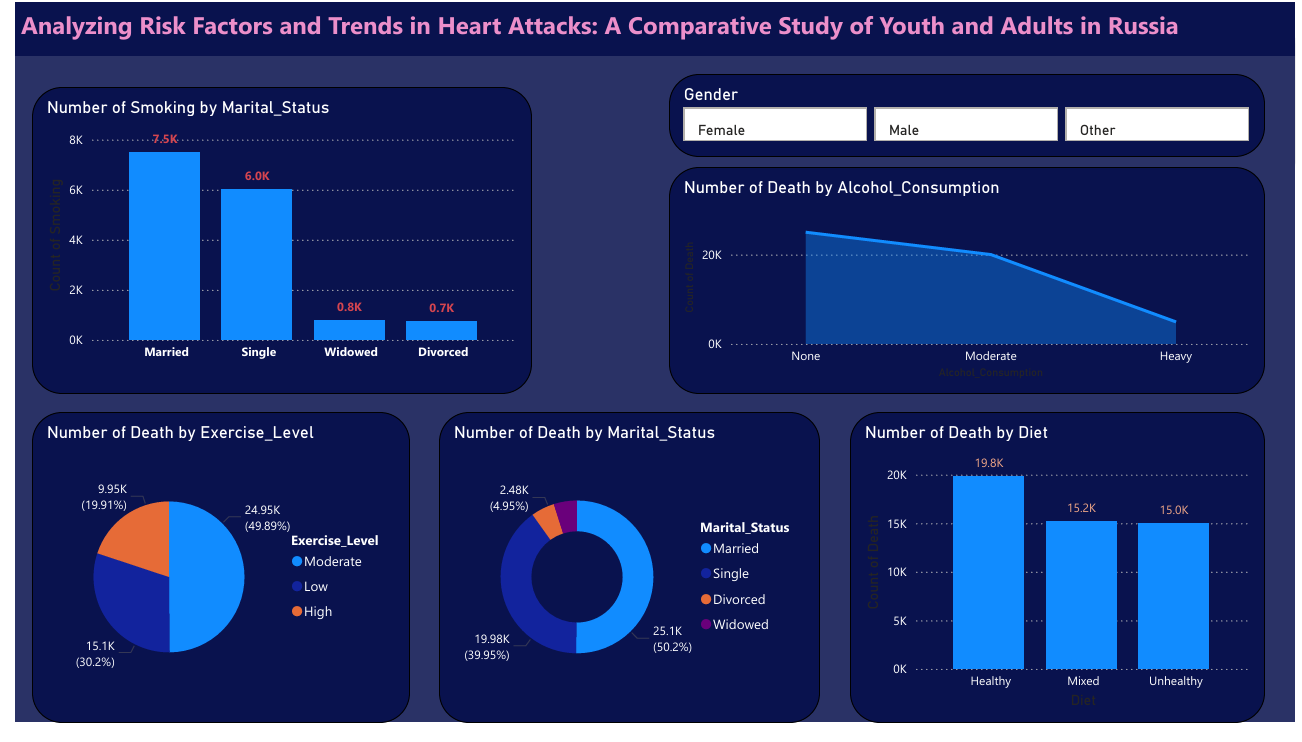

This screenshot's page, from the dashboard's own definition file:
{"tool":"powerbi","page":{"name":"Page 2","canvas":[1280,720],"ordinal":1},"visuals":[{"type":"areaChart","title":"Number of Death by Alcohol_Consumption","fields":{"Category":["heart_attack_russia_youth_vs_ad.Alcohol_Consumption","heart_attack_russia_youth_vs_ad.Diabetes"],"Y":["CountNonNull(heart_attack_russia_youth_vs_ad.Death)"]},"box":[652.9,164.3,595.7,227.1],"z":0},{"type":"pieChart","title":"Number of Death by Exercise_Level","fields":{"Y":["CountNonNull(heart_attack_russia_youth_vs_ad.ID)"],"Category":["heart_attack_russia_youth_vs_ad.Exercise_Level"]},"box":[15.7,408.6,378.6,311.4],"z":1000},{"type":"donutChart","title":"Number of Death by Marital_Status","fields":{"Y":["CountNonNull(heart_attack_russia_youth_vs_ad.ID)"],"Category":["heart_attack_russia_youth_vs_ad.Marital_Status"]},"box":[422.9,408.6,381.4,311.4],"z":2000},{"type":"advancedSlicerVisual","fields":{"Values":["heart_attack_russia_youth_vs_ad.Gender"]},"box":[652.9,71.4,595.7,82.9],"z":3000},{"type":"columnChart","title":"Number of Smoking by Marital_Status","fields":{"Category":["heart_attack_russia_youth_vs_ad.Marital_Status"],"Y":["CountNonNull(heart_attack_russia_youth_vs_ad.Smoking)"]},"box":[15.7,84.3,500,307.1],"z":4000},{"type":"textbox","box":[0,0,1280,54.3],"z":5000},{"type":"clusteredColumnChart","title":"Number of Death by Diet","fields":{"Category":["heart_attack_russia_youth_vs_ad.Diet"],"Y":["CountNonNull(heart_attack_russia_youth_vs_ad.Death)"]},"box":[834.3,408.6,414.3,311.4],"z":6000}]}

Visuals, with their boxes in screenshot pixels (x1, y1, x2, y2), scaled from the page's 1280x720 canvas onto the 1302x742 screenshot:
"Number of Death by Alcohol_Consumption" areaChart: box=[664, 169, 1270, 403]
"Number of Death by Exercise_Level" pieChart: box=[16, 421, 401, 741]
"Number of Death by Marital_Status" donutChart: box=[430, 421, 818, 741]
advancedSlicerVisual - heart_attack_russia_youth_vs_ad.Gender: box=[664, 74, 1270, 159]
"Number of Smoking by Marital_Status" columnChart: box=[16, 87, 525, 403]
textbox: box=[0, 0, 1301, 56]
"Number of Death by Diet" clusteredColumnChart: box=[849, 421, 1270, 741]
